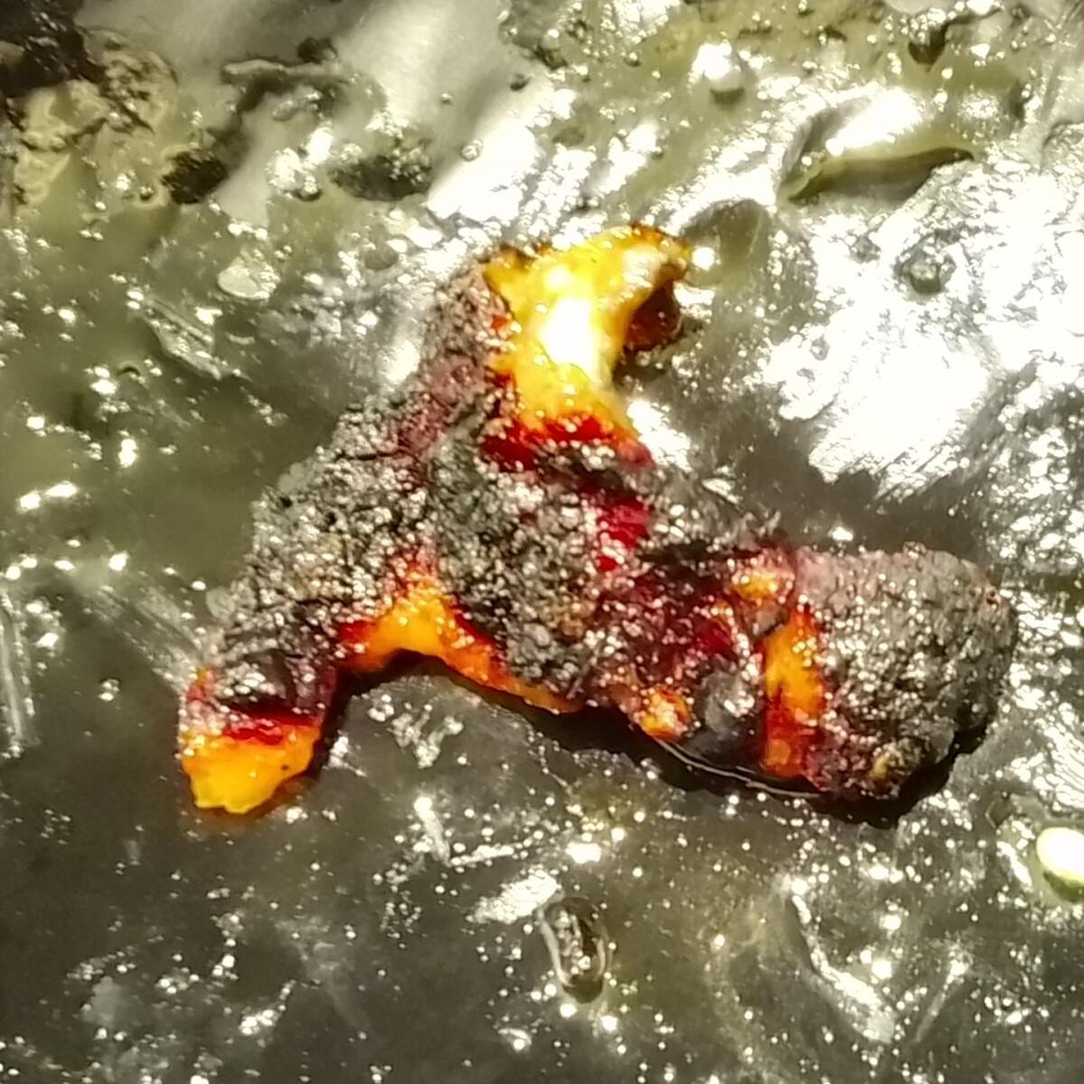Overcooked: (179, 225, 1014, 814)
